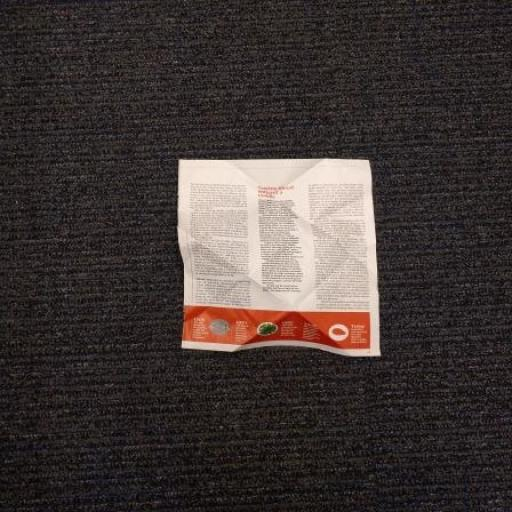paper: (112, 130, 400, 405)
